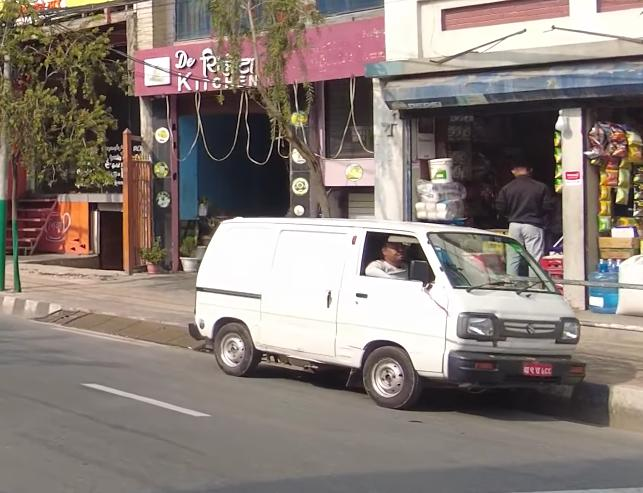van: (183, 204, 592, 410)
